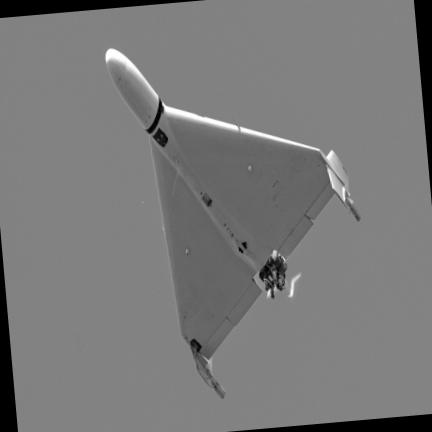Shahed: (106, 50, 349, 358)
